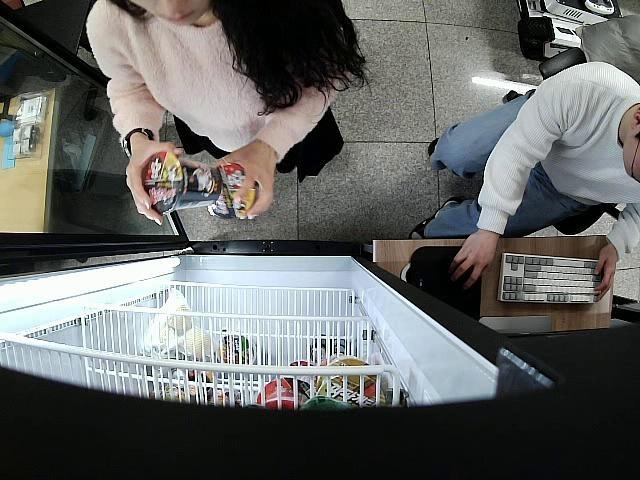08_buldak_S: (140, 153, 224, 215), (202, 164, 262, 221)
